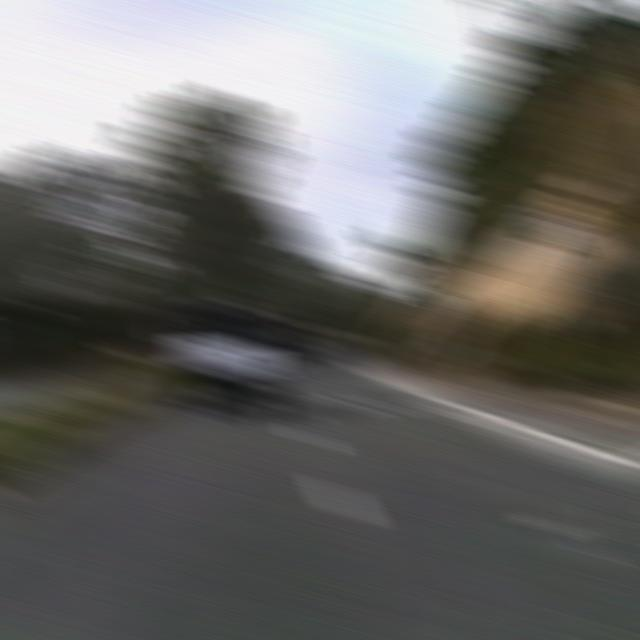speedLimit40: (528, 208, 575, 255)
